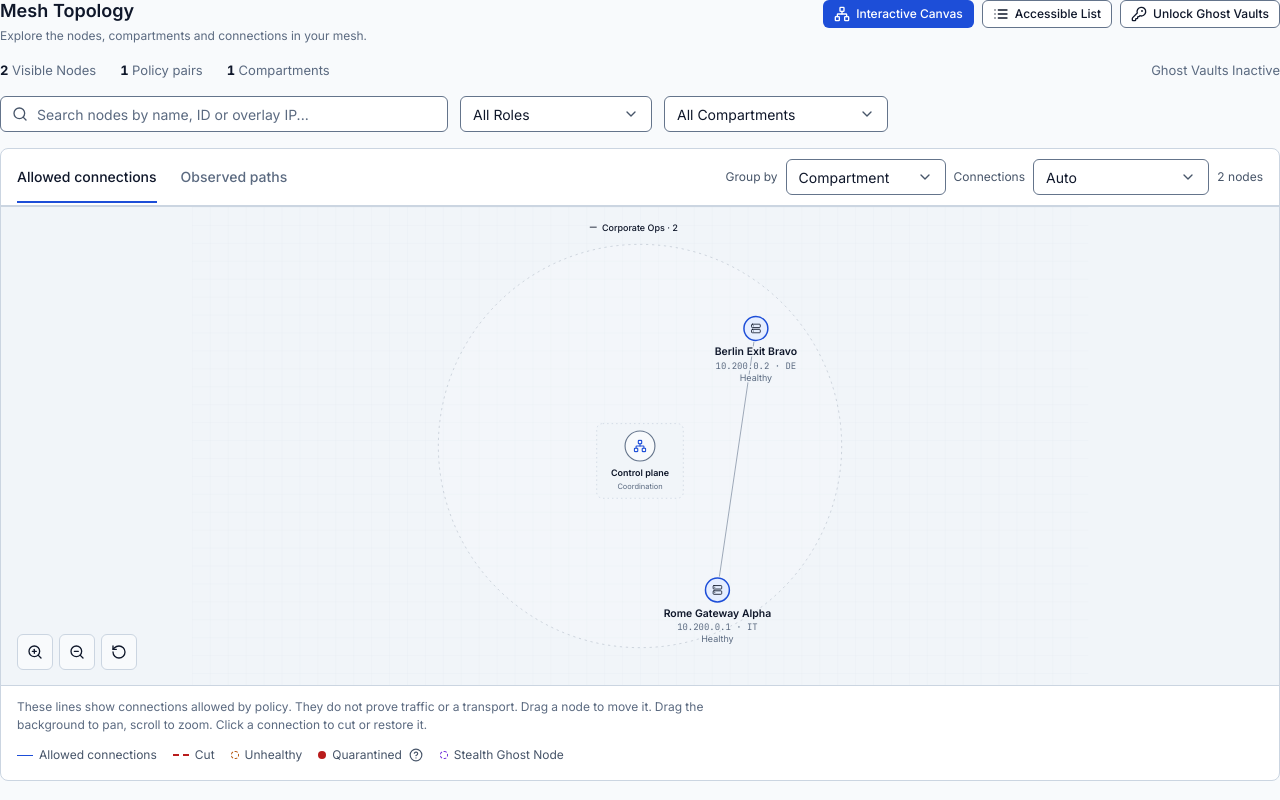
Test: WP-406: TopologyRoute (Interactive Topology & Ghost Vaults Dynamic Unlock) › 3. Invalid Password: shows error and preserves plausible deniability
Click the button "Unlock Ghost Vaults" at (1200,14), box [1120,0,1279,28]
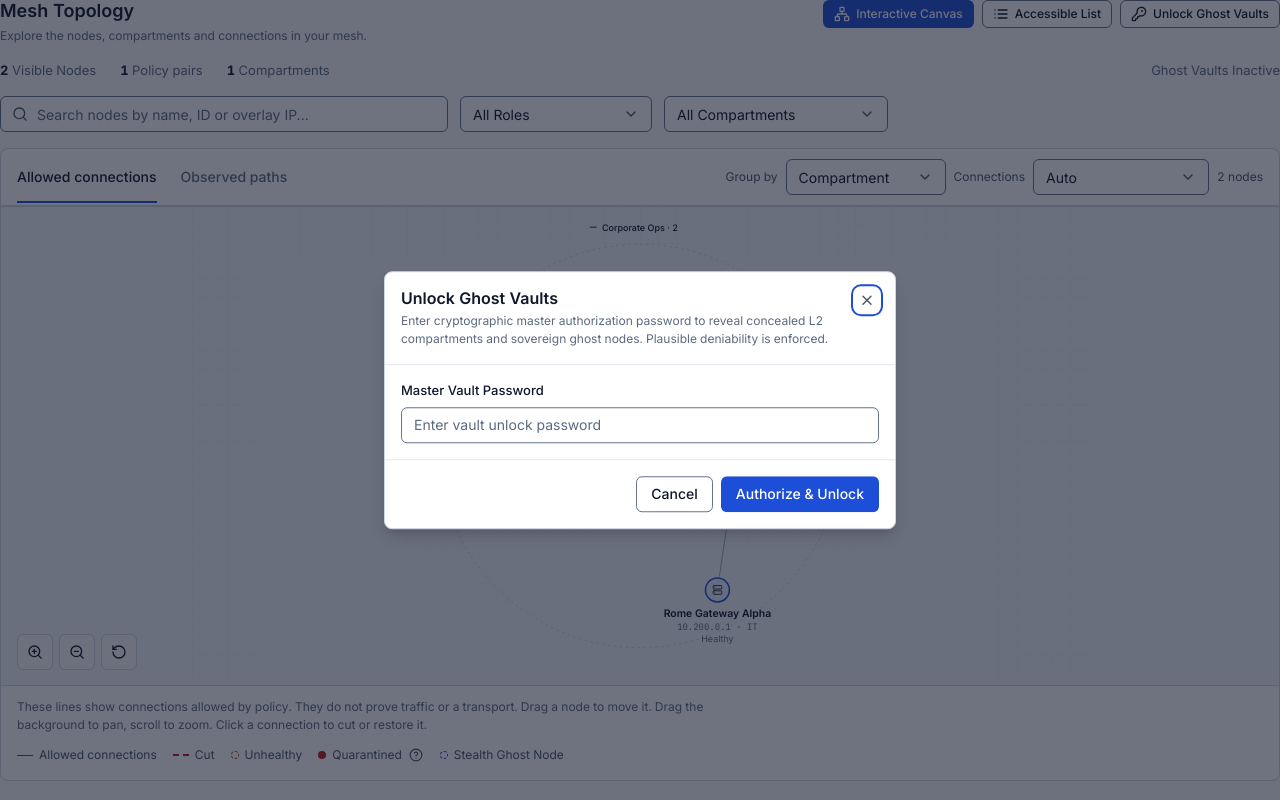
Type "WrongPassword!" into the password field with placeholder "Enter vault unlock password" at (640,425), box [401,407,879,443]
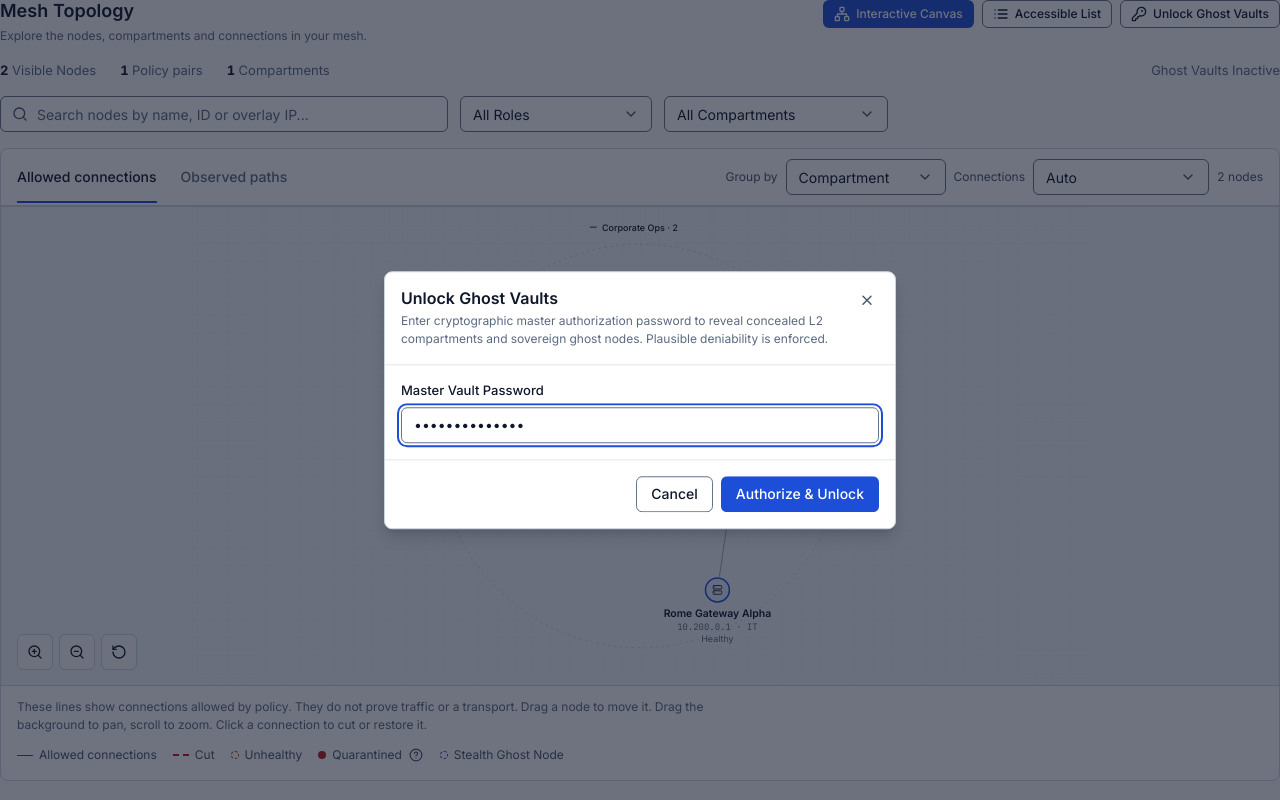
Click the button "Authorize & Unlock" at (800,494), box [721,476,879,512]
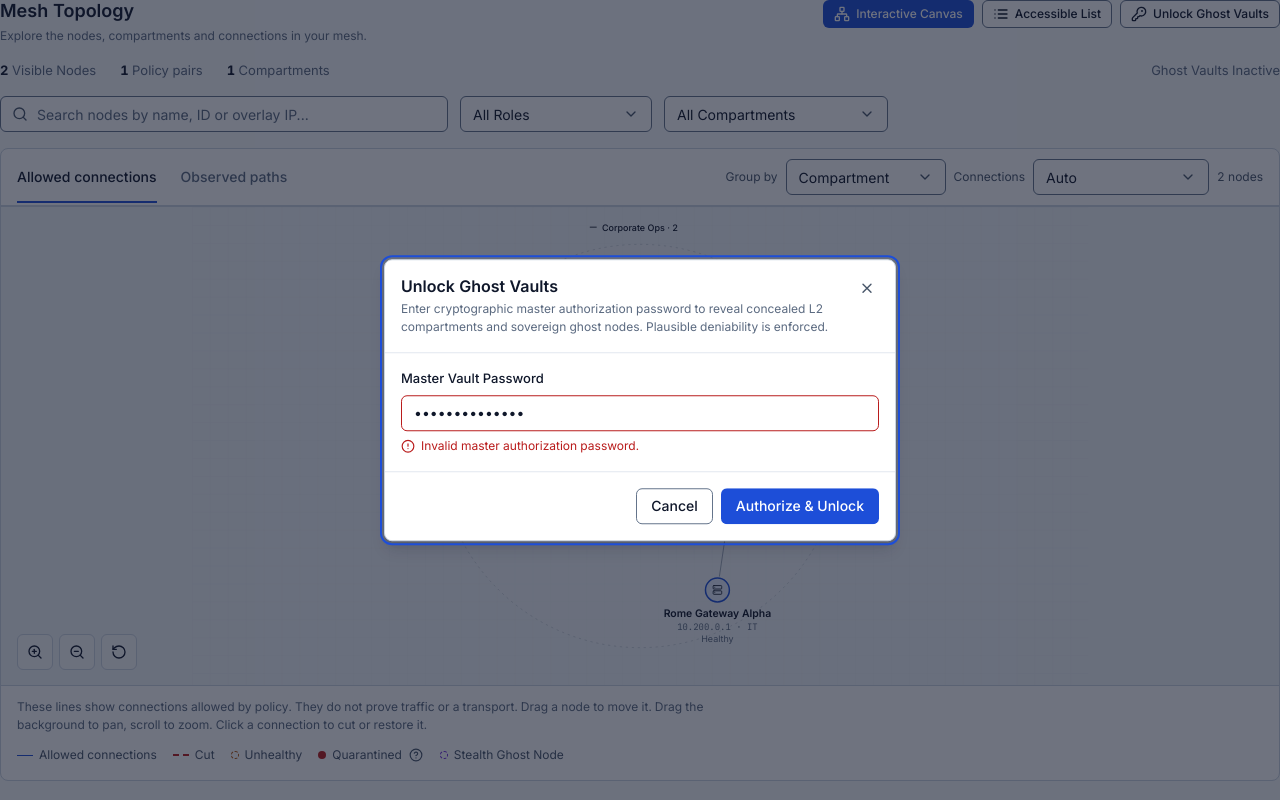
Expected: the text "Ghost Vaults Inactive" is shown, [1151,60,1279,80]
Expected: the text "Invalid master authorization password." is shown, [421,437,639,455]
